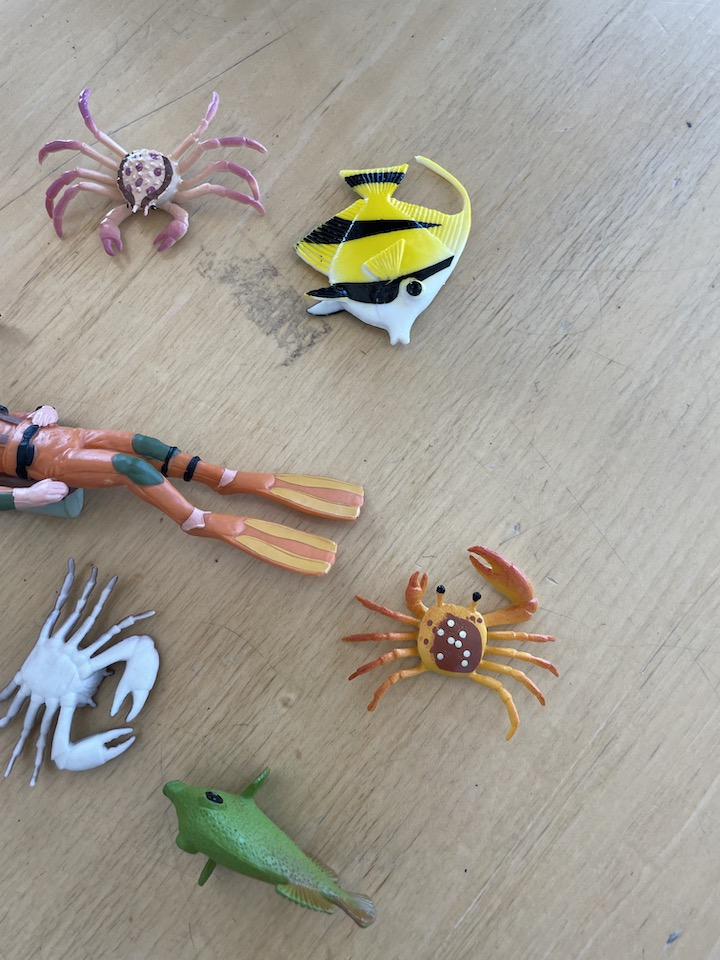crab: (335, 539, 561, 746), (31, 80, 270, 265), (1, 550, 168, 790)
danger: (290, 148, 474, 349)
diver: (1, 395, 368, 580)
fish: (159, 762, 381, 933)
